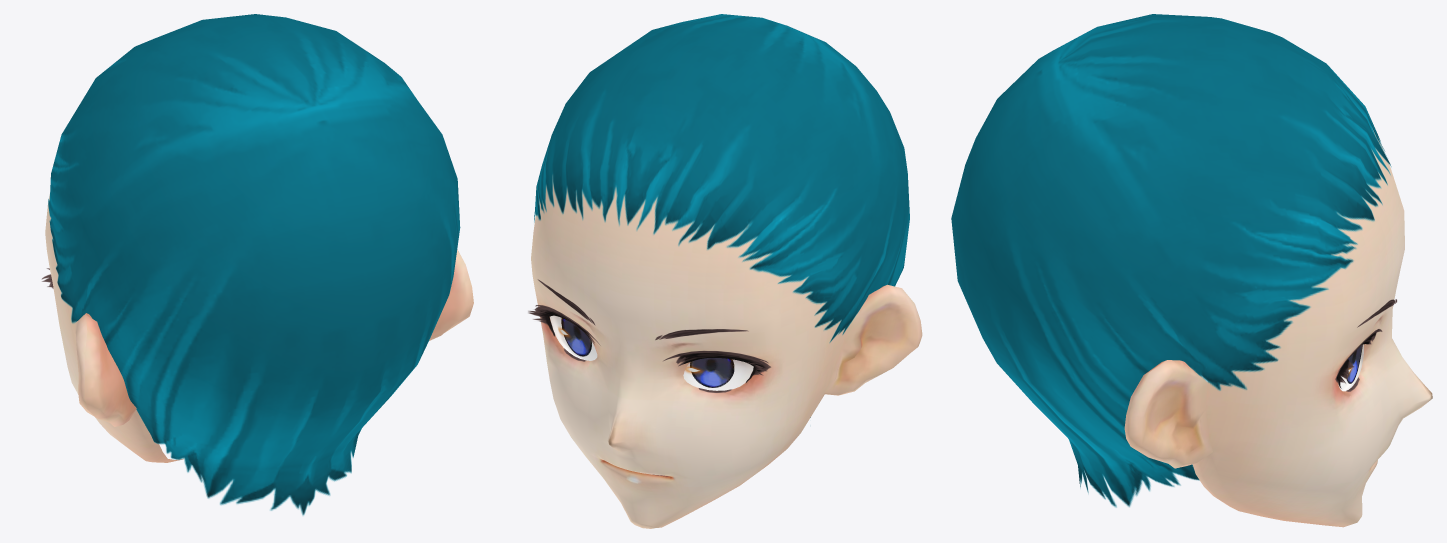
The model's file is base_male.glb.
The picture shows the model from 3 angles, left to right: view 1: azimuth 30°, elevation 25°; view 2: azimuth 150°, elevation 25°; view 3: azimuth 270°, elevation 25°; orthographic projection. The views are drawn at different scales.
Visible parts, largest first — view 1: Hair_Body, Facebaked; view 2: Facebaked, Hair_Body; view 3: Hair_Body, Facebaked.
Boxes of the visible parts, x1,y1,x2,y2 form: Hair_Body: (48, 14, 460, 515); Facebaked: (41, 194, 473, 462); Facebaked: (528, 176, 922, 528); Hair_Body: (534, 14, 909, 417); Hair_Body: (951, 14, 1391, 507); Facebaked: (1124, 131, 1432, 527).
Bounding box in the file's own units: 0.2237 × 0.261 × 0.2335.
10 materials, 10 textured.
